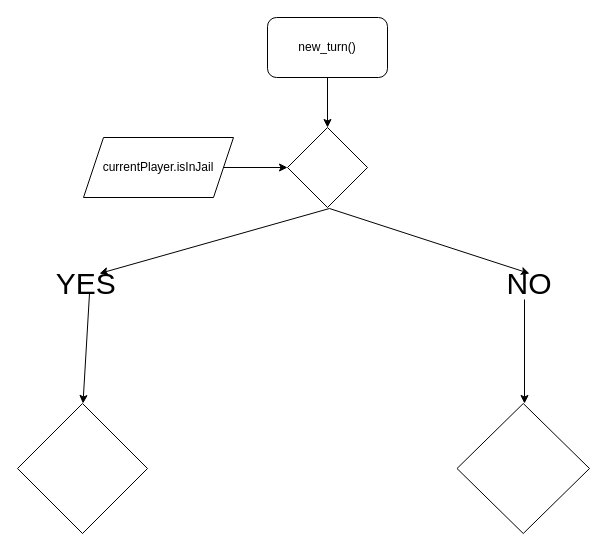
This 607x551 diagram has some shape labels left out. The centre of each missing label's shape, as x and y in pixels:
Got out of jail?: [82,468]
Is in jail?: [327,167]
